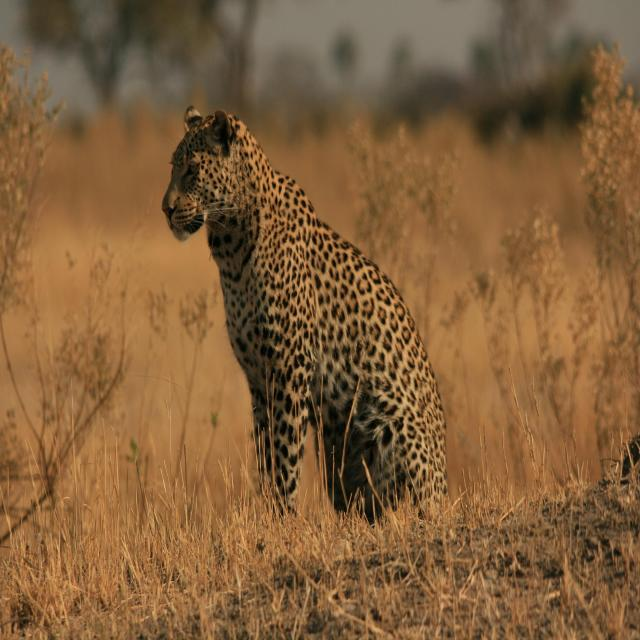Leopard: (162, 96, 446, 530)
